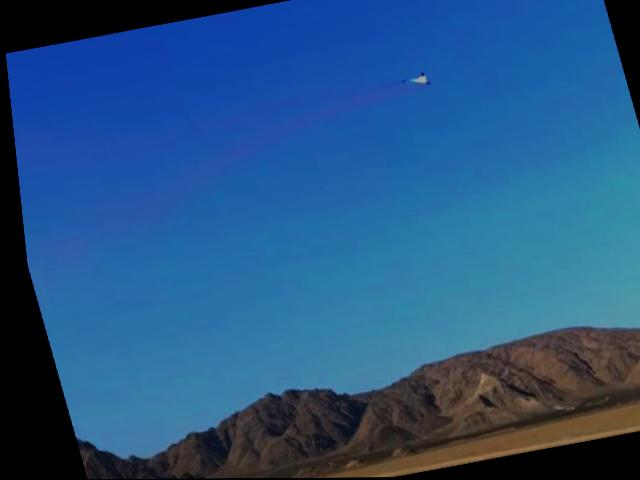iha: (399, 68, 430, 90)
